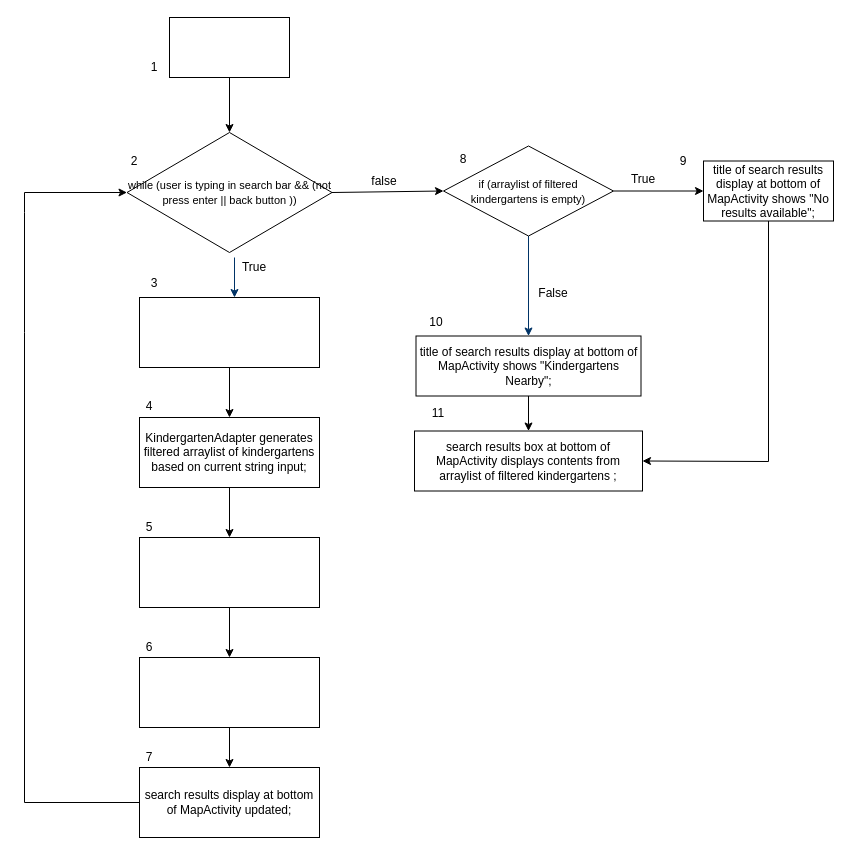
This 851x855 diagram has some shape labels left out. The centre of each missing label's shape, as x and y in pixels:
KindergartenAdapter notifies MapActivity of data change;: pixel 229 572
kindergartenArrayList = filtered arraylist of kindergartens;: pixel 229 692
pass current input in search bar to KindergartenAdapter;: pixel 229 332
User clicks on Search Bar: pixel 229 47
